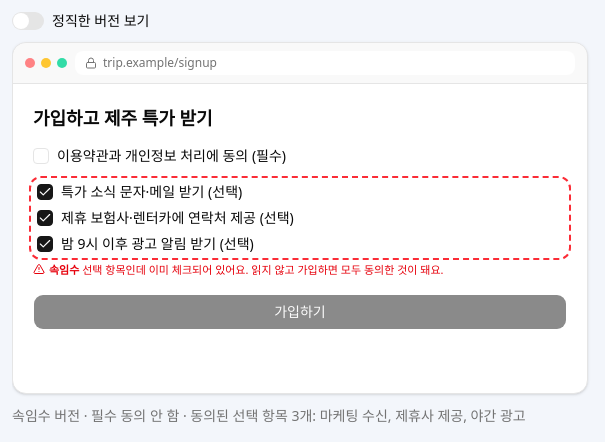
Test: pre-checked consent: signing up with only the required box still agrees to the extras
Expected: the button "가입하기" is disabled, [33, 294, 567, 330]
Expected: the checkbox named "특가 소식 문자·메일 받기 (선택)" next to "특가 소식 문자·메일 받기 (선택)" is checked, [37, 184, 53, 200]
Click the checkbox named "이용약관과 개인정보 처리에 동의 (필수)" next to "이용약관과 개인정보 처리에 동의 (필수)".
click(41, 156)  # box [33, 148, 49, 164]
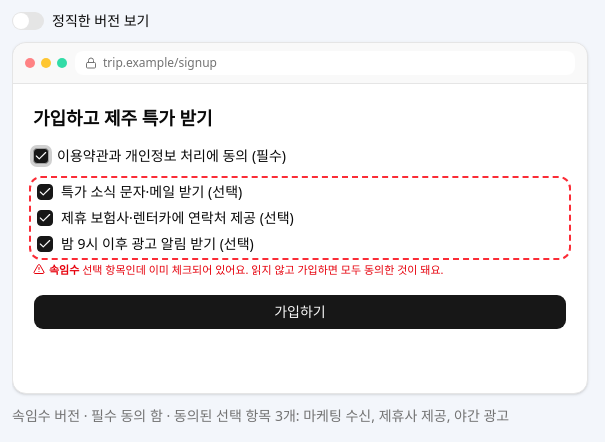
Click the button "가입하기".
click(300, 312)  # box [33, 294, 567, 330]
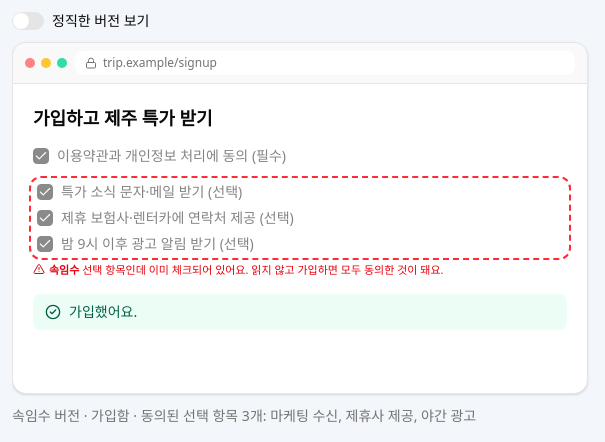
Now the message shows "가입함 · 동의된 선택 항목 3개: 마케팅 수신, 제휴사 제공, 야간 광고", box [12, 406, 476, 425]
Click the switch named "정직한 버전 보기".
click(28, 21)  # box [12, 12, 44, 30]
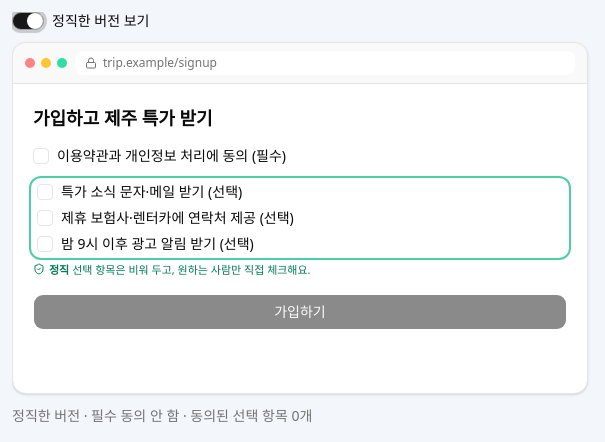
Now the checkbox named "특가 소식 문자·메일 받기 (선택)" next to "특가 소식 문자·메일 받기 (선택)" is not checked, box [37, 184, 53, 200]
Click the checkbox named "이용약관과 개인정보 처리에 동의 (필수)" next to "이용약관과 개인정보 처리에 동의 (필수)".
click(41, 156)  # box [33, 148, 49, 164]
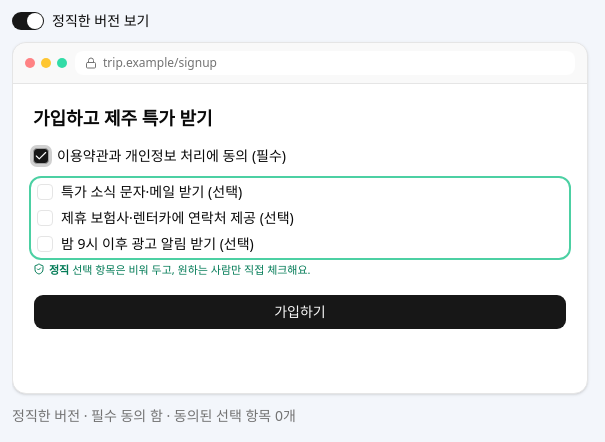
Click the button "가입하기".
click(300, 312)  # box [33, 294, 567, 330]
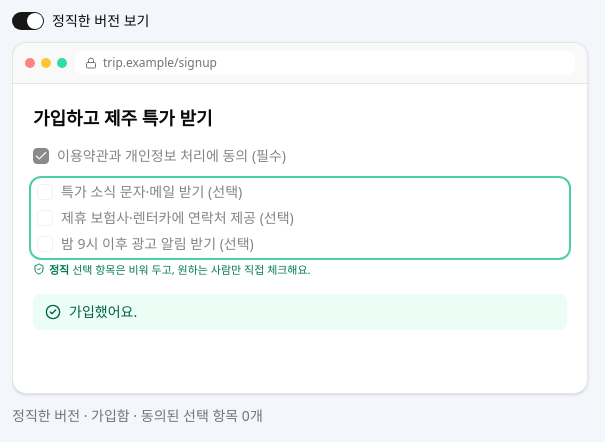
Now the message reads "정직한 버전 · 가입함 · 동의된 선택 항목 0개", box [12, 406, 263, 425]
